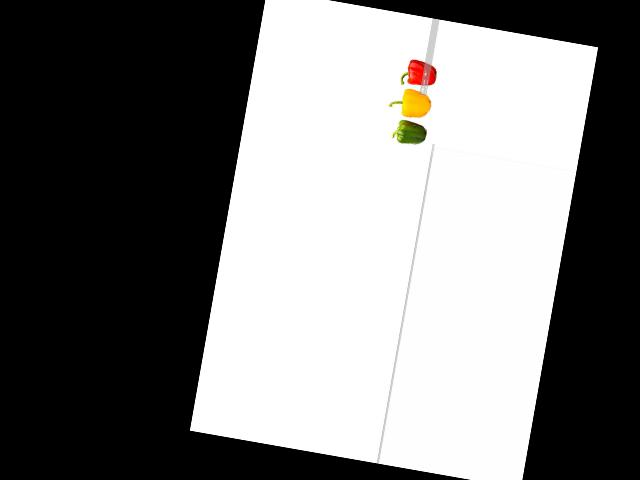bell_pepper: (385, 118, 430, 150)
